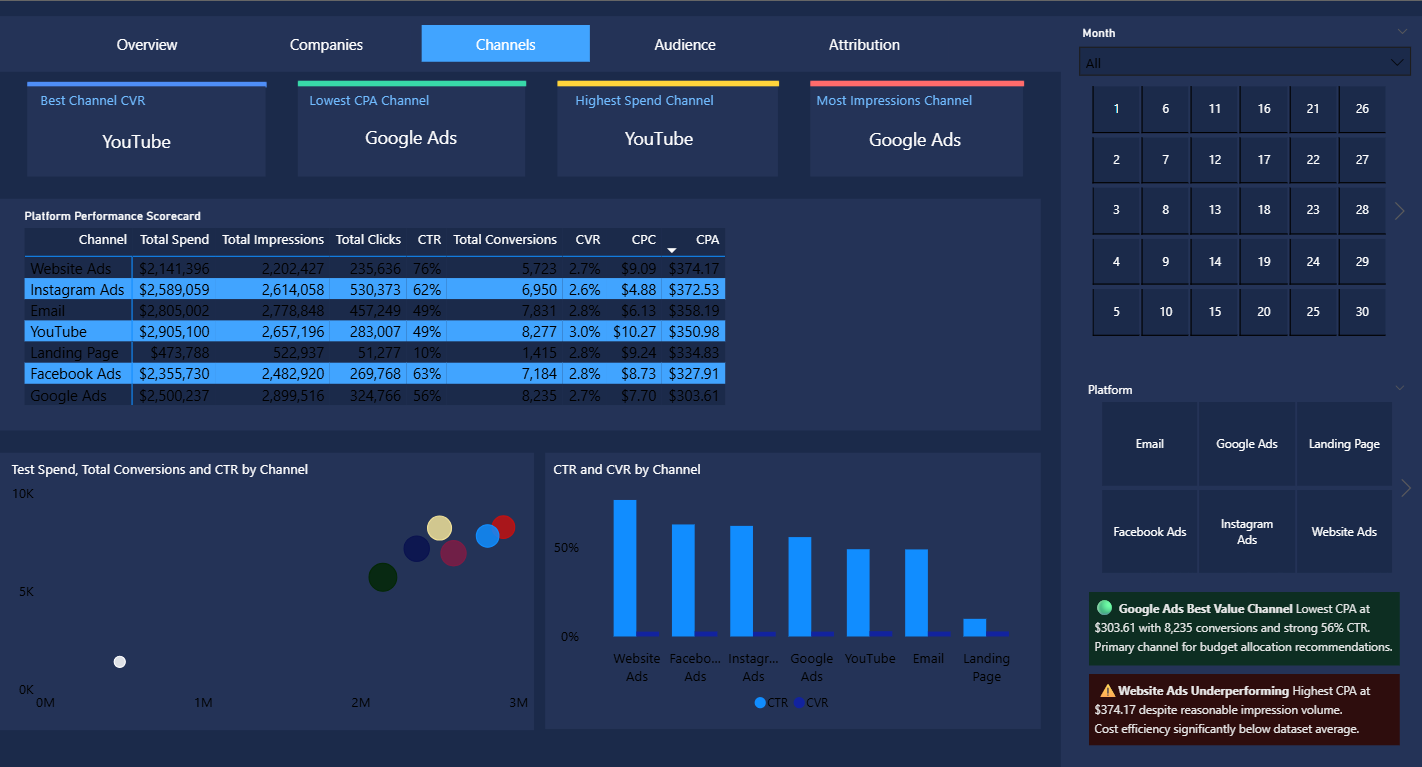

The dashboard page shown, as its layout file describes it:
{"tool":"powerbi","page":{"name":"Channels","canvas":[1280,720],"ordinal":2},"visuals":[{"type":"card","title":"Best Platform CVR","fields":{"Values":["CalcMeasures.Best Platform CVR"]},"box":[34.1,110.4,182.2,78.1],"z":0},{"type":"card","title":"Lowest CPA Platform","fields":{"Values":["CalcMeasures.Lowest CPA Platform"]},"box":[275.6,110.4,192.1,70.9],"z":1000},{"type":"card","title":"Highest Spend Platform","fields":{"Values":["CalcMeasures.Highest Spend Platform"]},"box":[514.4,110.4,159.8,73.6],"z":2000},{"type":"card","title":"Most Impressions Platform","fields":{"Values":["CalcMeasures.Most Impressions Platform"]},"box":[730.8,110.4,186.7,75.4],"z":3000},{"type":"pivotTable","title":"Platform Performance Scorecard","fields":{"Rows":["Dim_Platform.Platfrom"],"Values":["CalcMeasures.Total Spend","CalcMeasures.Total Impressions","CalcMeasures.Total Clicks","CalcMeasures.CTR","CalcMeasures.Total Conversions","CalcMeasures.CVR","CalcMeasures.CPC","CalcMeasures.CPA"]},"box":[19.8,216.4,725.4,181.3],"z":4000},{"type":"scatterChart","fields":{"Category":["Dim_Platform.Platfrom"],"X":["CalcMeasures.Test Spend"],"Y":["CalcMeasures.Total Conversions"],"Size":["CalcMeasures.CTR"]},"box":[8.1,441.7,474,236.1],"z":5000},{"type":"clusteredColumnChart","fields":{"Category":["Dim_Platform.Platfrom"],"Y":["CalcMeasures.CTR","CalcMeasures.CVR"]},"box":[494.7,441.7,440.8,236.1],"z":6000},{"type":"slicer","fields":{"Values":["Date_Dim.Day"]},"box":[961.8,103.2,317.8,248.7],"z":7000},{"type":"slicer","fields":{"Values":["Date_Dim.Month Name"]},"box":[961.8,46.7,317.8,56.6],"z":8000},{"type":"pageNavigator","box":[59.3,51.2,795.4,33.2],"z":9000},{"type":"slicer","fields":{"Values":["Dim_Platform.Platfrom"]},"box":[962,362.7,317.8,183.1],"z":10000},{"type":"textbox","box":[980.3,560.2,279.2,65.5],"z":11000},{"type":"textbox","box":[980.3,633.8,279.2,63.7],"z":12000}]}

Visuals, with their boxes on the page's 1280x720 design canvas (x1, y1, x2, y2). These are canvas units, not pixel positions in the 1422x767 screenshot, which may show the page scaled, cropped or inside an application window:
"Best Platform CVR" card: bbox=[34, 110, 216, 188]
"Lowest CPA Platform" card: bbox=[276, 110, 468, 181]
"Highest Spend Platform" card: bbox=[514, 110, 674, 184]
"Most Impressions Platform" card: bbox=[731, 110, 918, 186]
"Platform Performance Scorecard" pivotTable: bbox=[20, 216, 745, 398]
scatterChart - Dim_Platform.Platfrom x CalcMeasures.Test Spend: bbox=[8, 442, 482, 678]
clusteredColumnChart - Dim_Platform.Platfrom x CalcMeasures.CTR: bbox=[495, 442, 936, 678]
slicer - Date_Dim.Day: bbox=[962, 103, 1280, 352]
slicer - Date_Dim.Month Name: bbox=[962, 47, 1280, 103]
pageNavigator: bbox=[59, 51, 855, 84]
slicer - Dim_Platform.Platfrom: bbox=[962, 363, 1280, 546]
textbox: bbox=[980, 560, 1260, 626]
textbox: bbox=[980, 634, 1260, 698]
